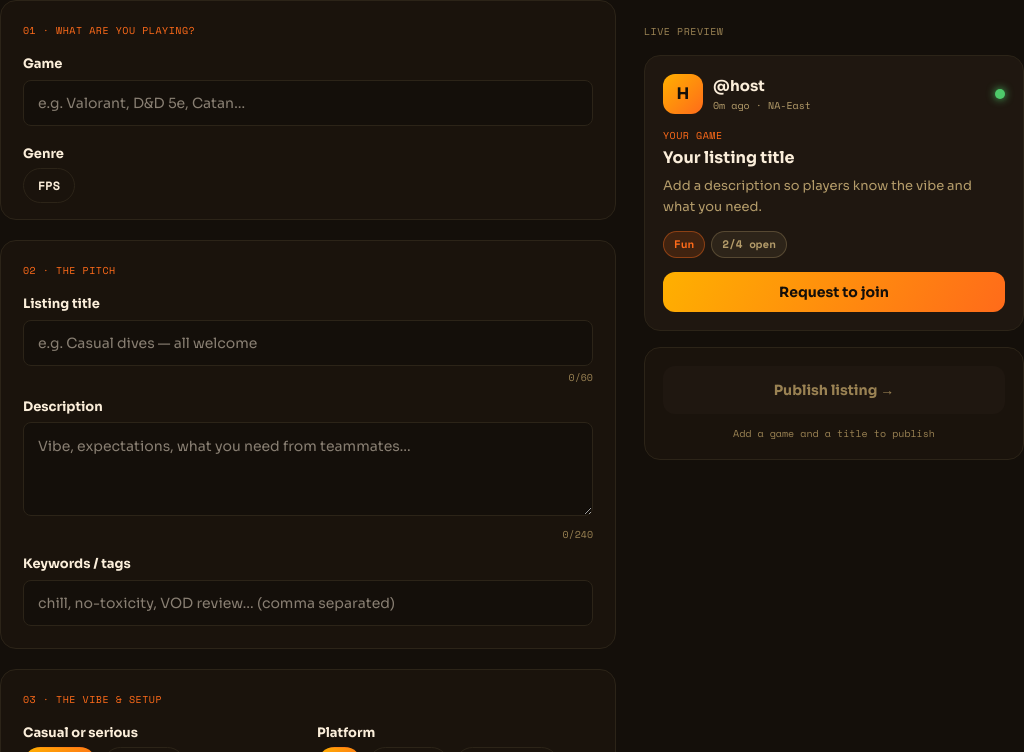
Test: "Did you mean?" (036/FR-004/005) › appears for an alias and points at the canonical
The width and height of the screenshot is (1024, 752).
In the dropdown labelled "Game": (308, 102) [23,80,593,126], type "dnd 5e"
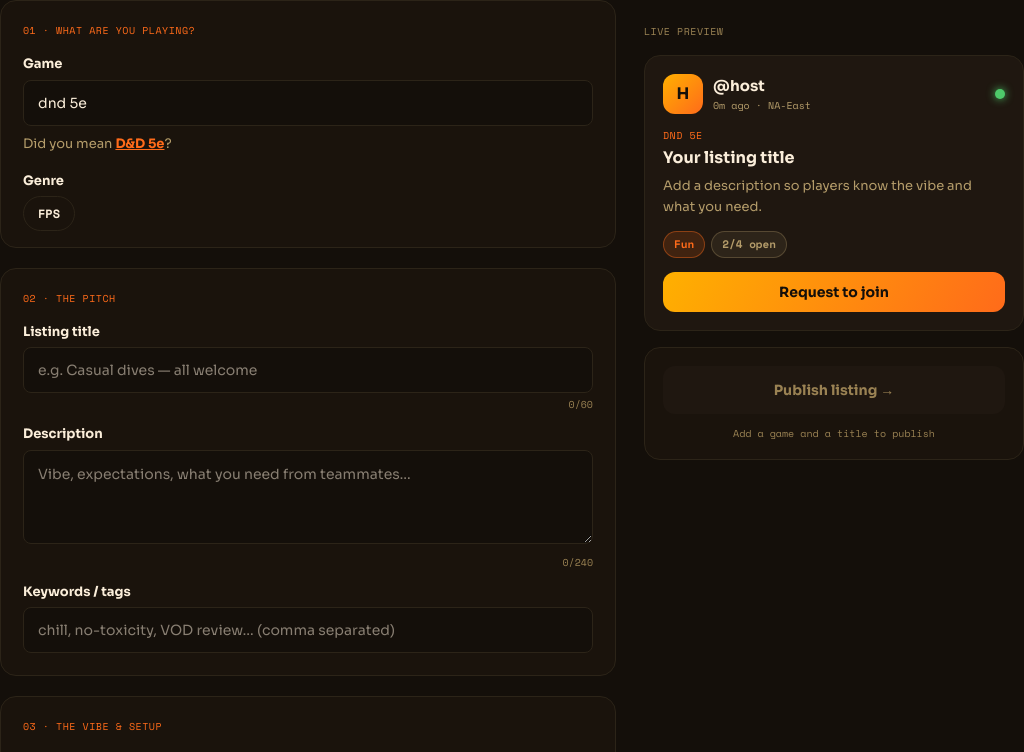
Now the button "D&D 5e" is shown, box [115,134,164,153]
